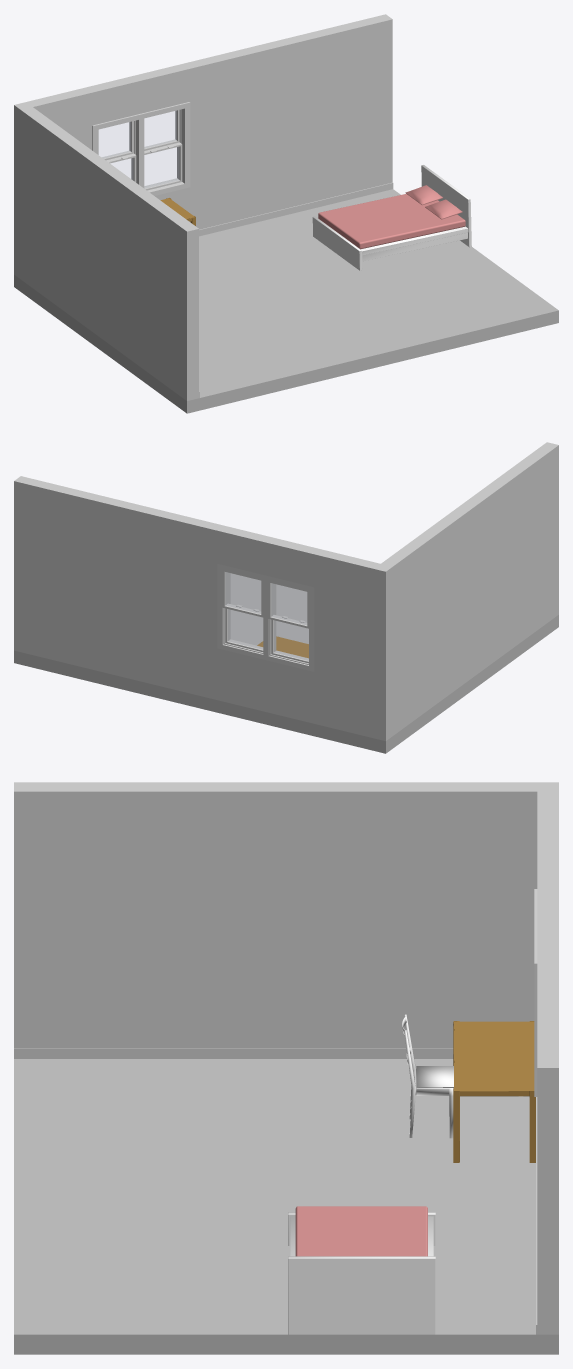
Rendered from L16_W20_furniture2_daylight1.glb.
3 views of the same model, one above another, from view 1: azimuth 30°, elevation 25°; view 2: azimuth 150°, elevation 25°; view 3: azimuth 270°, elevation 25° (orthographic). The views are drawn at different scales.
Size of the model in its own units: 248 by 116 by 200.
